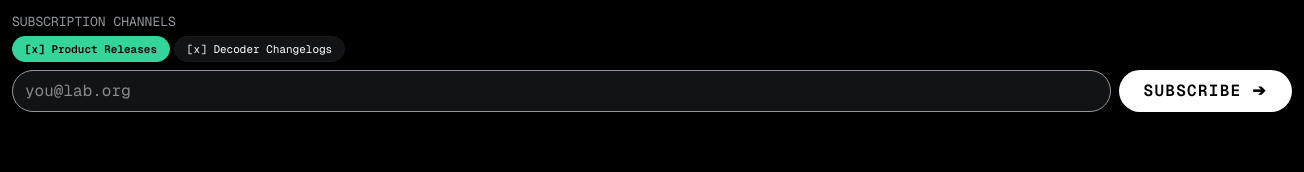
Test: SubscribeForm › dismisses the status notice
Type "researcher@lab.org" into the field with placeholder "you@lab.org" at (561, 91), box [12, 70, 1110, 112]
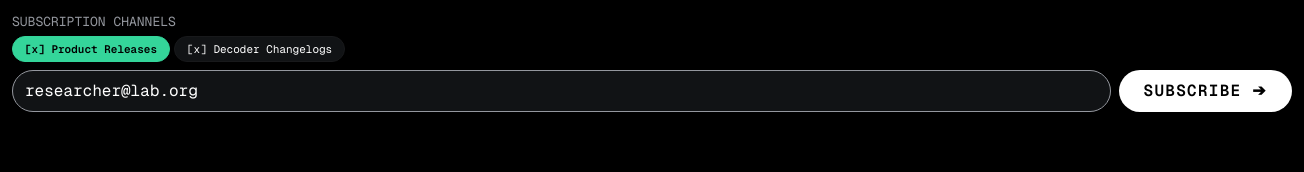
Click the button "Subscribe ➔" at (1205, 91), box [1118, 70, 1292, 112]
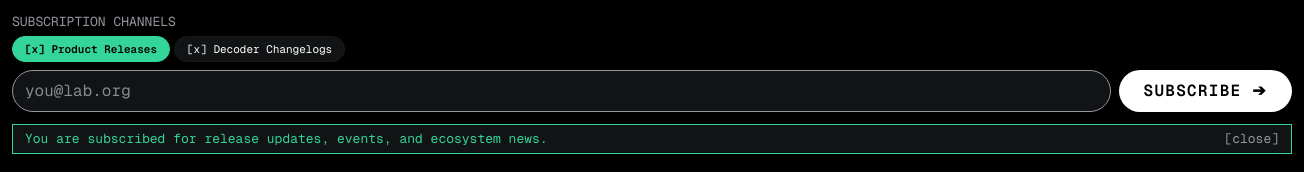
Click the button "[close]" at (1252, 139), box [1224, 129, 1279, 148]
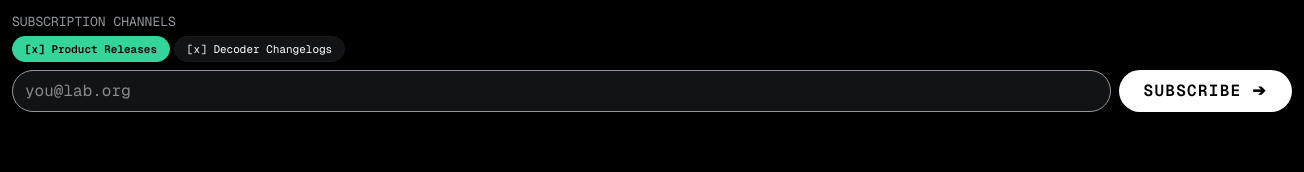
Expected: the message "You are subscribed for release updates, events, and ecosystem news. [close]" is gone
